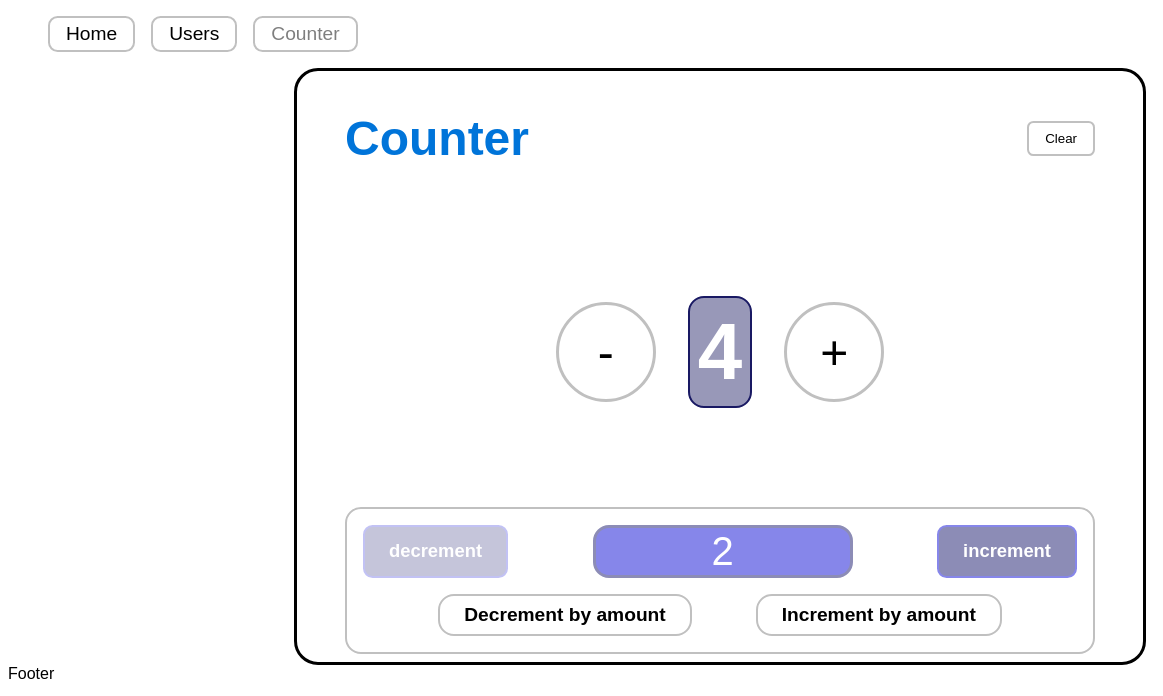
Test: Test CounterIncrementAndDecrement › Test global-counter-decrement-button › Test functionality, case when user change value by amount-buttons-box__decrement-btn › Case when value will be in valid range
Expected: the button with test id "global-counter-decrement-button" is enabled, left=556, top=302, right=656, bottom=402
Expected: the heading with test id "global-counter-value" reads "4", left=698, top=307, right=742, bottom=396
Click the button with test id "amount-buttons-box__decrement-btn".
click(565, 615)  # box left=438, top=594, right=692, bottom=636
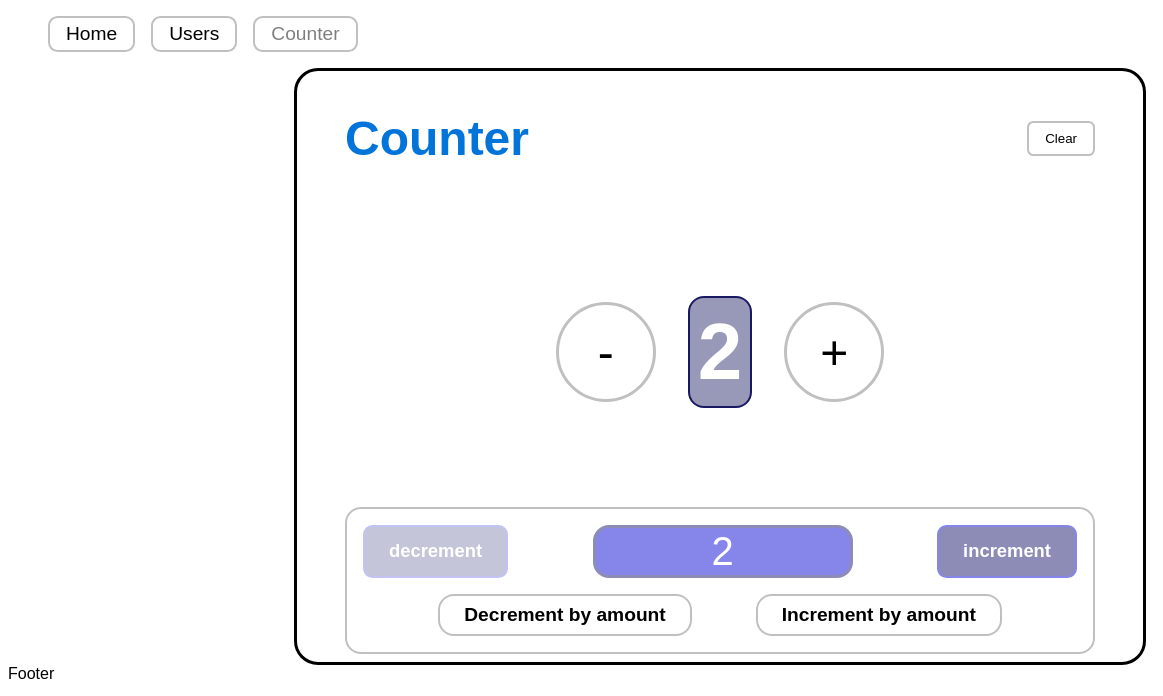
Result: the heading with test id "global-counter-value" reads "2" at left=698, top=307, right=742, bottom=396
Click the button with test id "global-counter-decrement-button".
click(606, 352)  # box left=556, top=302, right=656, bottom=402
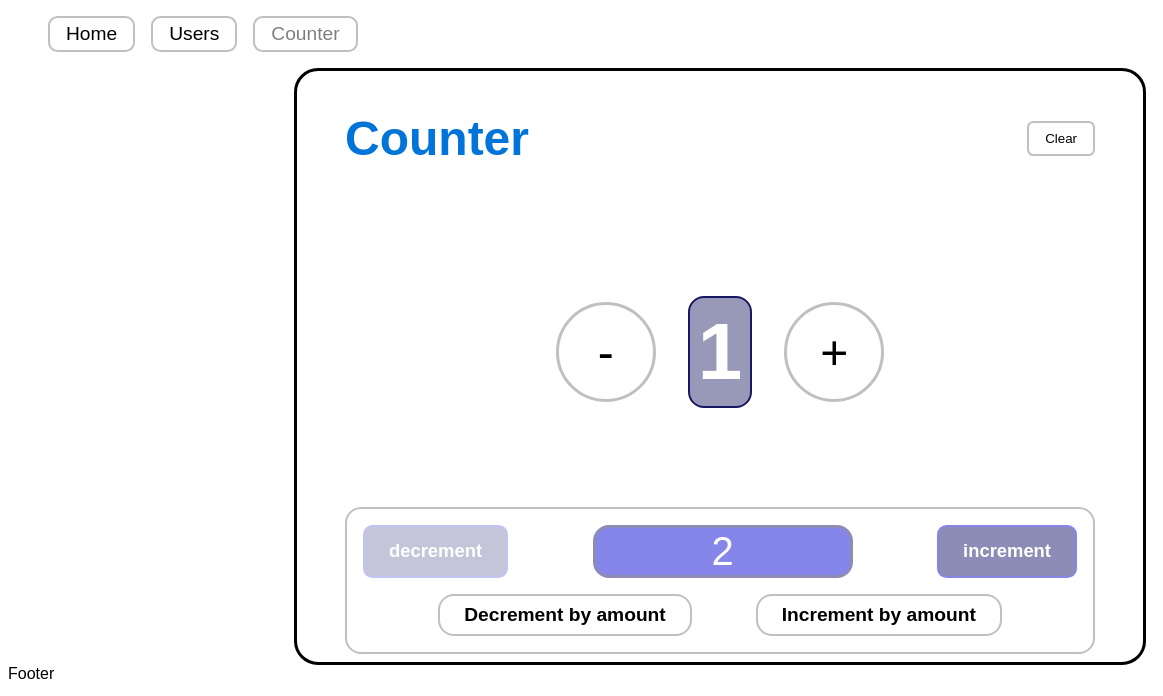
Result: the heading with test id "global-counter-value" reads "1" at left=698, top=307, right=742, bottom=396
